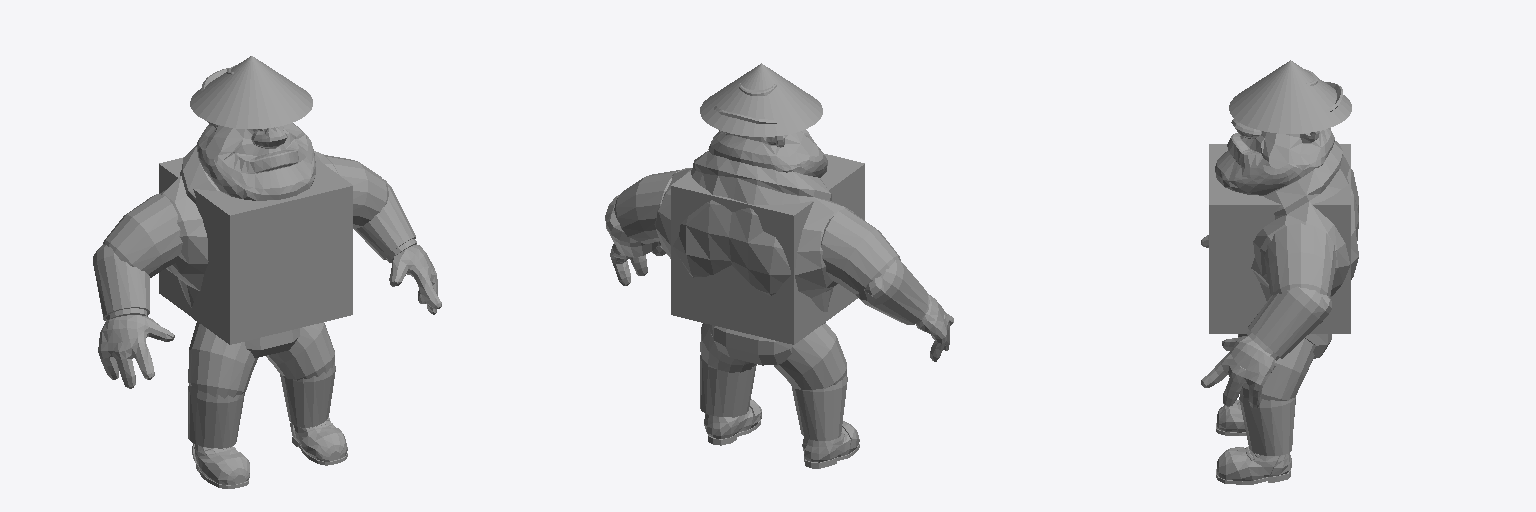
Rendered from mongrolian.obj.
3 renders of one model, left to right at view 1: azimuth 30°, elevation 25°; view 2: azimuth 150°, elevation 25°; view 3: azimuth 270°, elevation 25°, orthographic.
Bounding box in the file's own units: 5.42 × 6.07 × 2.22.